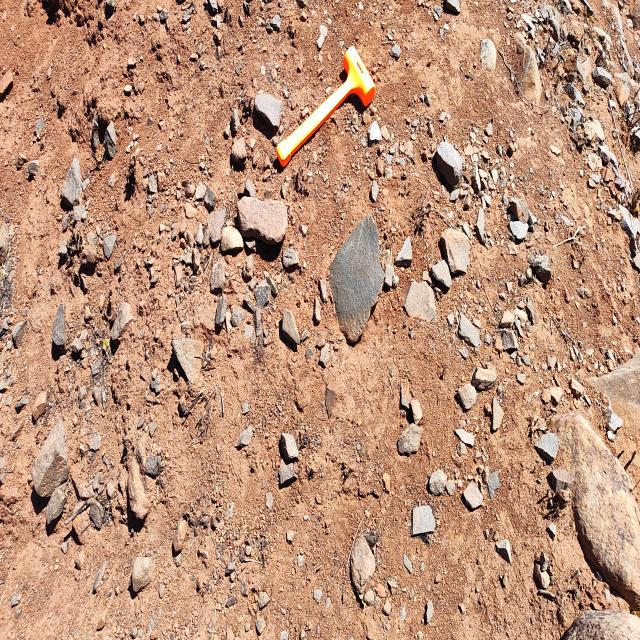Orange_hammer: (276, 44, 376, 168)
rock: (570, 413, 640, 600), (326, 213, 388, 339), (26, 436, 73, 505), (237, 188, 291, 246), (124, 460, 158, 530), (345, 534, 378, 597), (252, 92, 289, 137), (62, 145, 84, 216)
